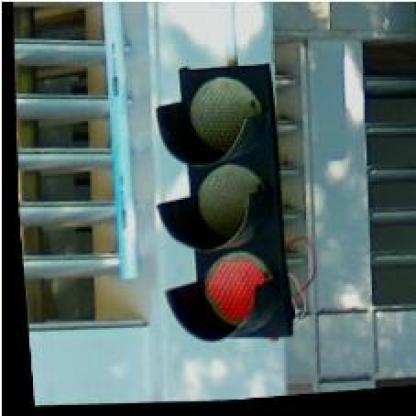red: (138, 60, 302, 351)
